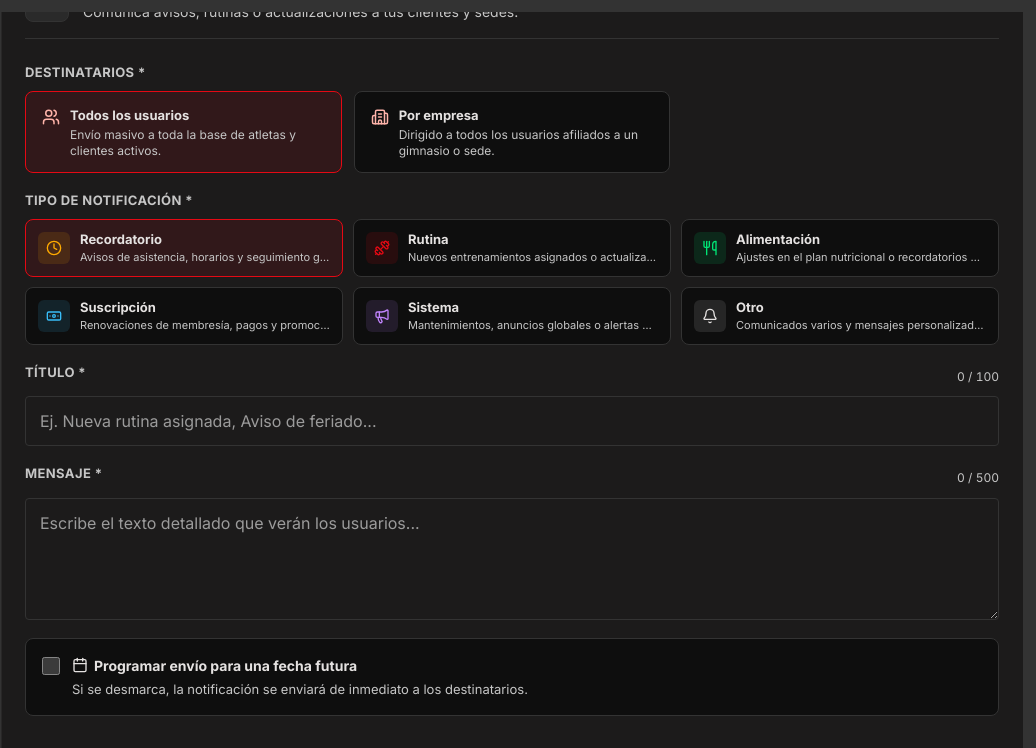
Test: NotificacionForm › exige empresa destinataria cuando el alcance es por empresa
(page scrolled)
Click the radio button named "alcance". click: [512, 132]
box: [354,91,670,173]
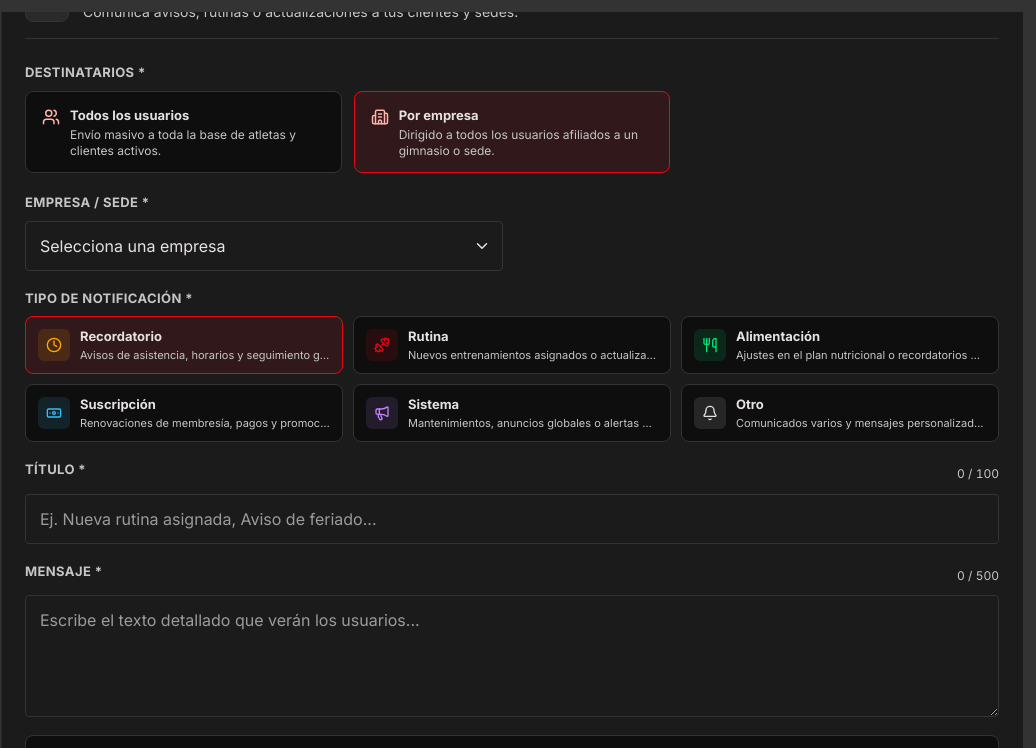
Type "Aviso a sede" into the field with id "notif-titulo". click: [512, 519]
box: [25,494,999,544]
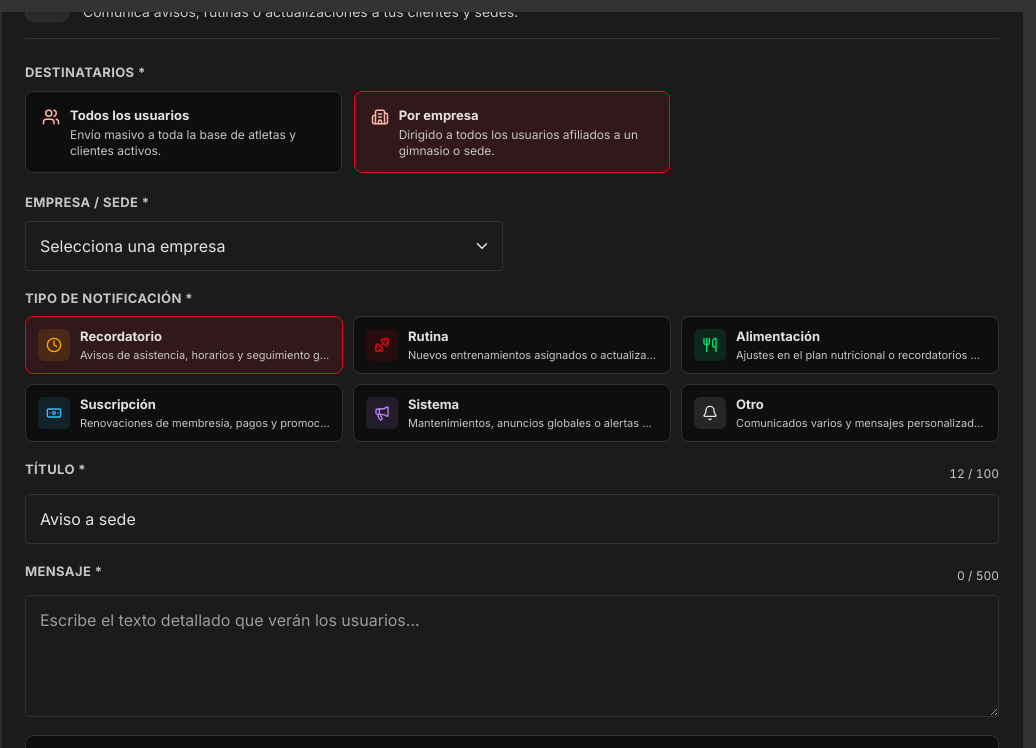
Type "Contenido para toda la empresa." into the text box with id "notif-mensaje". click: [512, 656]
box: [25,595,999,717]
(page scrolled)
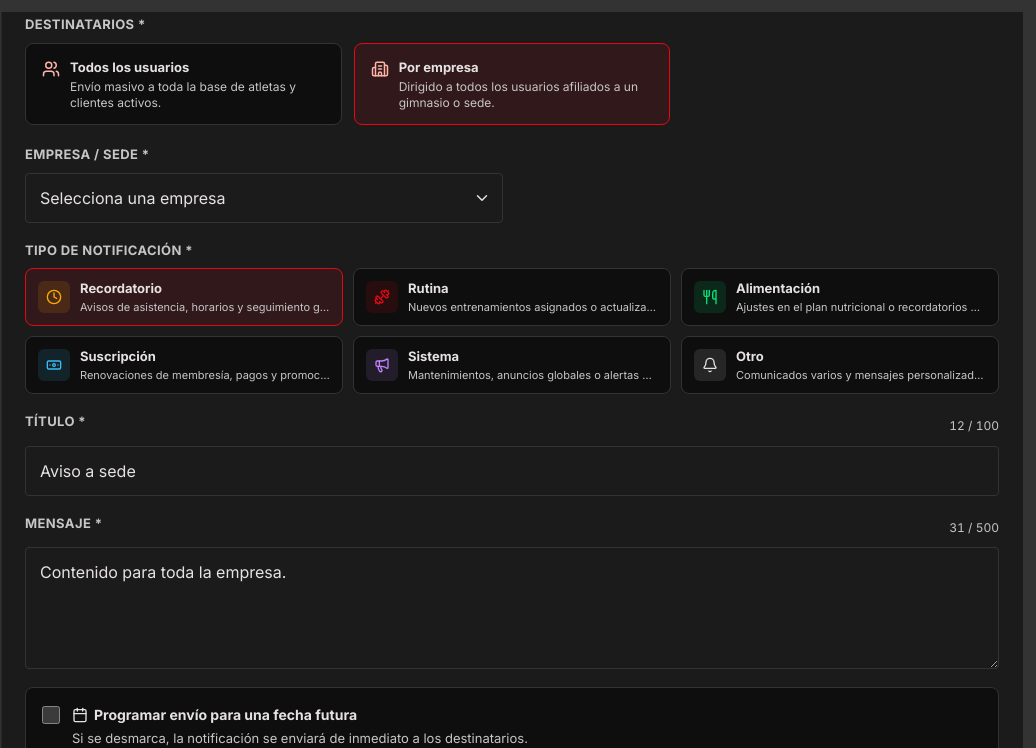
Submit the form
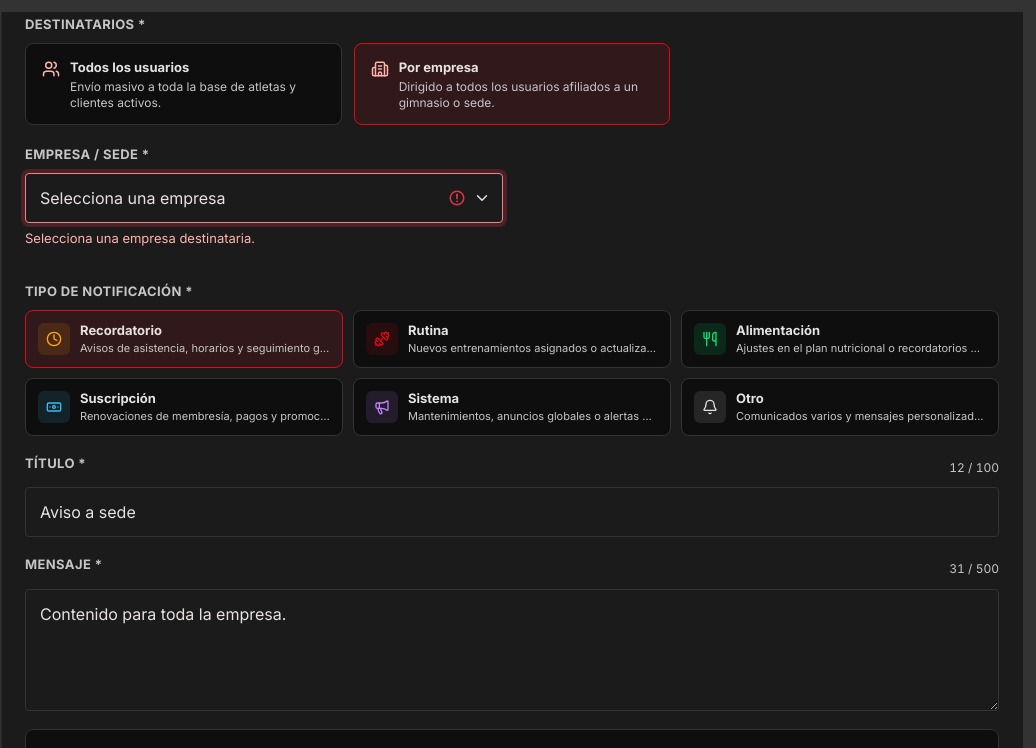
Expected: the message with id "error-empresa" shows "Selecciona una empresa", [25,230,255,246]
